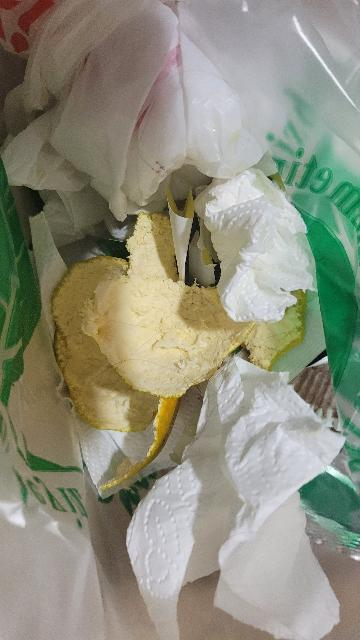Plastik: (244, 290, 306, 370)
